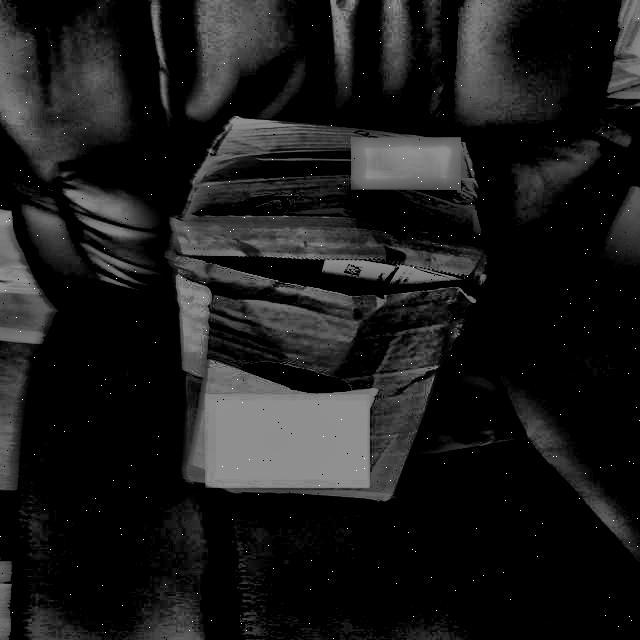box: (153, 103, 506, 527)
hole: (178, 252, 473, 305)
